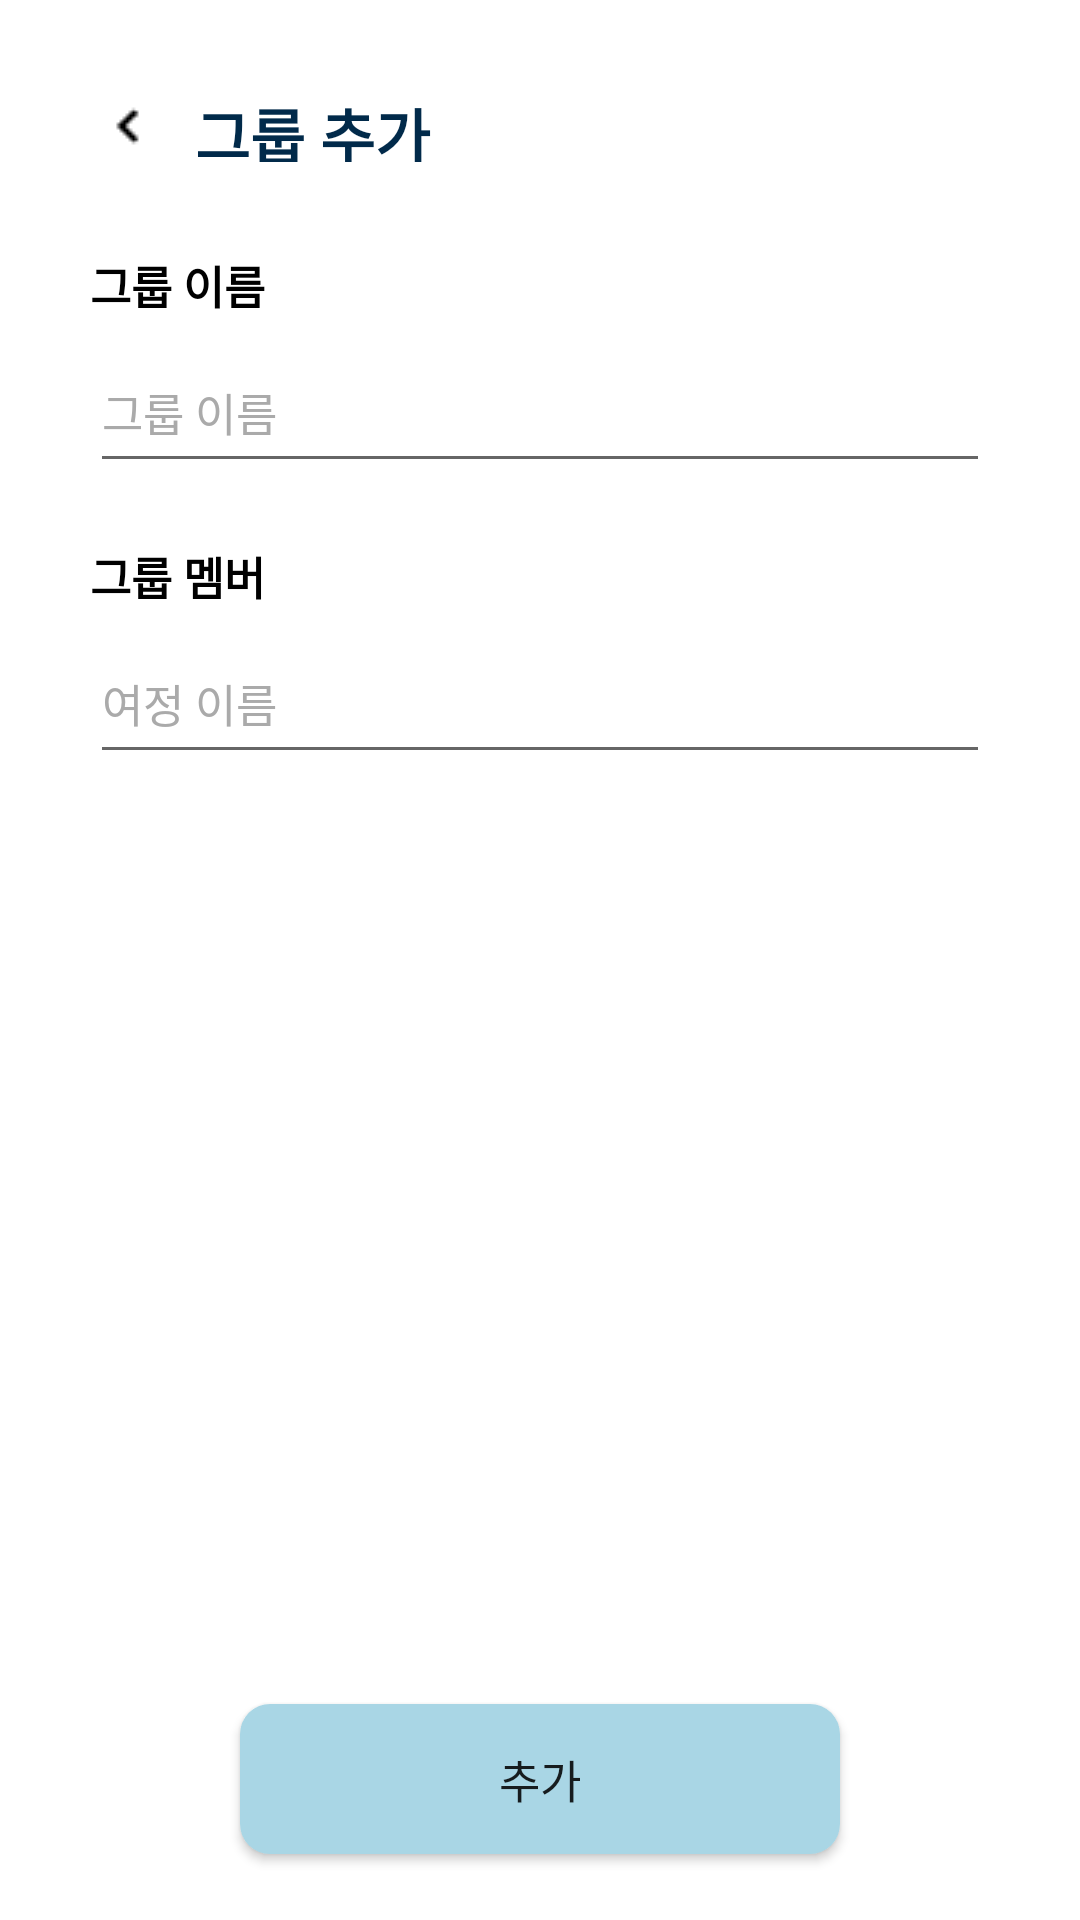

Locate icon controls on the screen. Image size 1080x1920, boxes as {"x1": x1, "y1": y1, "x2": x2, "y2": y2}.
back: {"x1": 116, "y1": 108, "x2": 139, "y2": 144}
